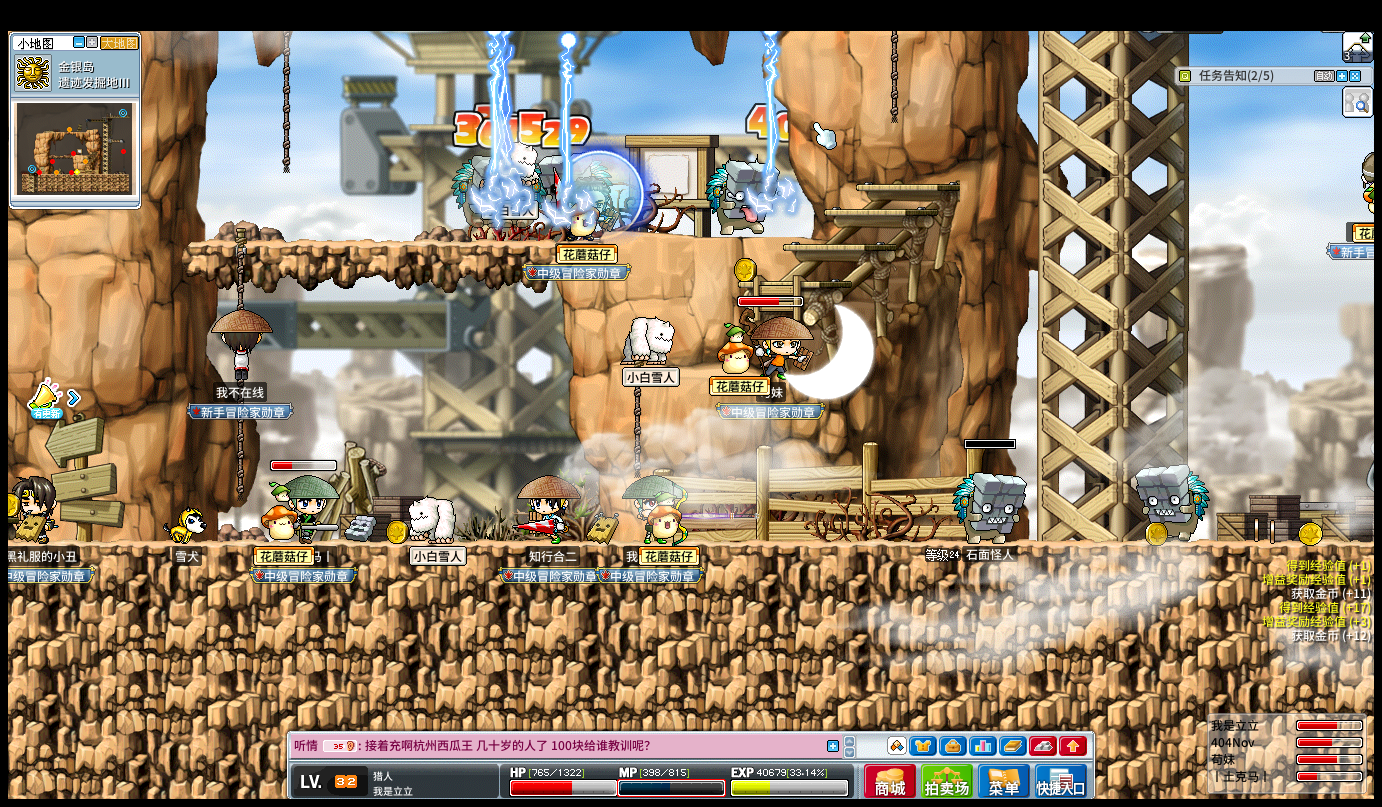floor: (182, 238, 576, 248), (651, 232, 822, 241), (728, 278, 847, 286), (821, 207, 933, 215), (854, 183, 961, 190), (788, 244, 896, 250)
monster: (1134, 464, 1210, 541), (706, 158, 777, 236), (953, 471, 1025, 543), (451, 157, 504, 237)
rope: (282, 33, 293, 173), (281, 32, 290, 172), (233, 225, 245, 311), (633, 383, 642, 478), (233, 421, 242, 502), (889, 30, 897, 121)
